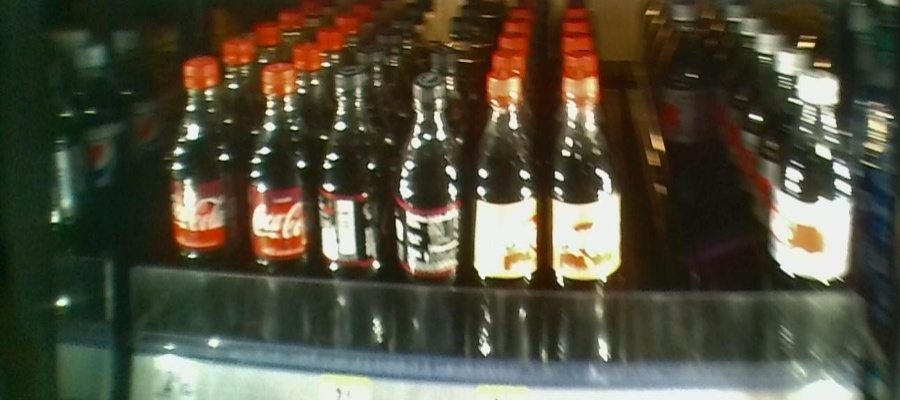bottle: (769, 62, 860, 363), (540, 63, 619, 378), (385, 73, 463, 364), (166, 55, 243, 348), (464, 70, 537, 368), (314, 59, 384, 362), (245, 57, 313, 353), (663, 3, 712, 154)
